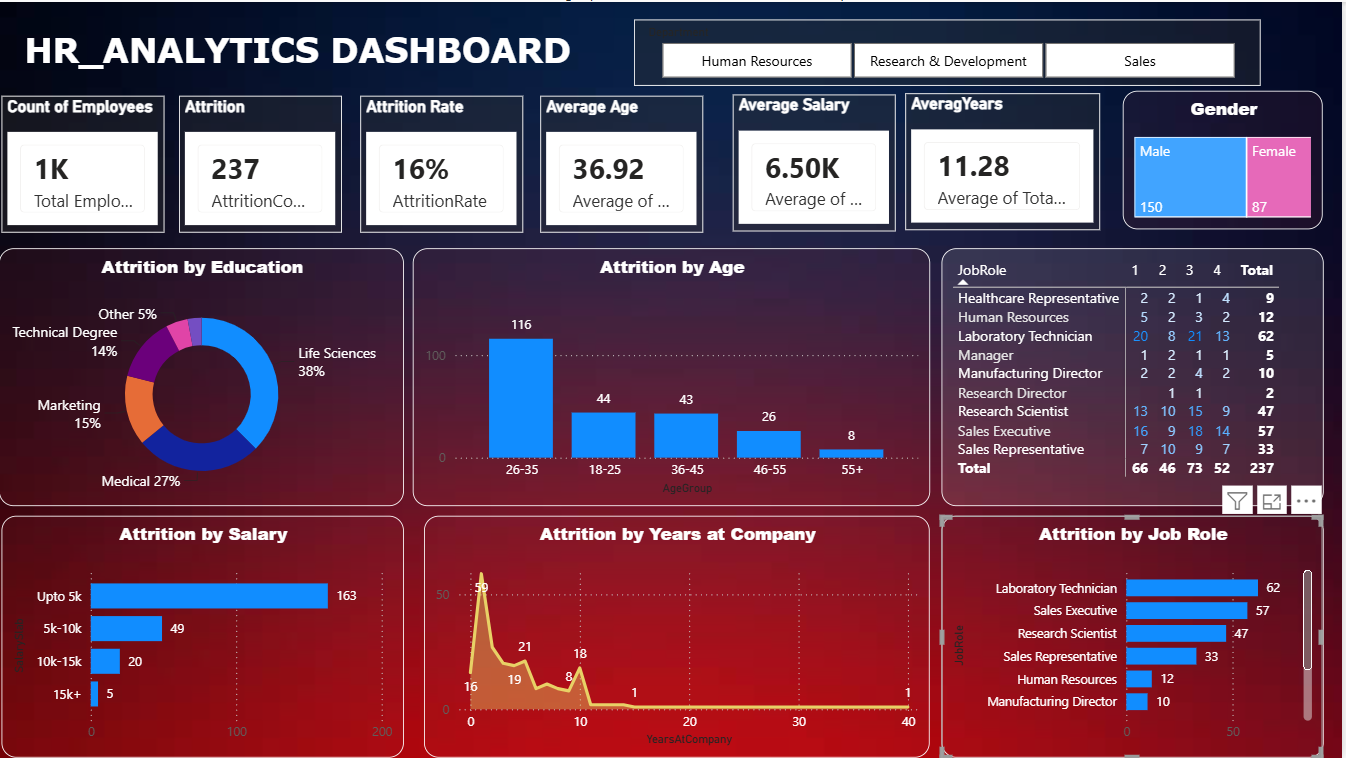

The page's visual inventory and layout, read from the dashboard file:
{"tool":"powerbi","page":{"name":"Page 1","canvas":[1280,720],"ordinal":0},"visuals":[{"type":"cardVisual","title":"Count of Employees","fields":{"Data":["HR_Analytics.Total Employees"]},"box":[2.4,89.3,155.1,130.4],"z":0},{"type":"cardVisual","title":" Attrition","fields":{"Data":["HR_Analytics.Attrition Count"]},"box":[171.5,89.2,155.1,130.4],"z":1000},{"type":"cardVisual","title":"Average Age","fields":{"Data":["Avg(HR_Analytics.Age)"]},"box":[516,89.2,155.1,130.4],"z":2000},{"type":"cardVisual","title":"Attrition Rate","fields":{"Data":["HR_Analytics.AttritionRate"]},"box":[344.4,89.2,155.1,130.4],"z":3000},{"type":"cardVisual","title":"Average Salary","fields":{"Data":["Avg(HR_Analytics.MonthlyIncome)"]},"box":[698.5,87.8,155.1,130.4],"z":4000},{"type":"cardVisual","title":"AveragYears","fields":{"Data":["Avg(HR_Analytics.TotalWorkingYears)"]},"box":[863.1,86.4,185.2,130.4],"z":5000},{"type":"donutChart","title":"Attrition by Education","fields":{"Category":["HR_Analytics.EducationField"],"Y":["HR_Analytics.AttritionCount"]},"box":[0,234.6,385.6,245.6],"z":6000},{"type":"columnChart","title":"Attrition by Age","fields":{"Category":["HR_Analytics.AgeGroup"],"Y":["HR_Analytics.AttritionCount"]},"box":[393.8,234.6,492.6,245.6],"z":7000},{"type":"pivotTable","fields":{"Rows":["HR_Analytics.JobRole"],"Columns":["HR_Analytics.JobSatisfaction"],"Values":["HR_Analytics.AttritionCount"]},"box":[897.4,234.6,363.6,245.6],"z":8000},{"type":"barChart","title":"Attrition by Salary","fields":{"Category":["HR_Analytics.SalarySlab"],"Y":["HR_Analytics.AttritionCount"]},"box":[2.7,489.9,382.8,230.5],"z":9000},{"type":"barChart","title":"Attrition by Job Role","fields":{"Category":["HR_Analytics.JobRole"],"Y":["HR_Analytics.AttritionCount"]},"box":[897.4,489.9,363.6,230.5],"z":10000},{"type":"areaChart","title":"Attrition by Years at Company","fields":{"Category":["HR_Analytics.YearsAtCompany"],"Y":["HR_Analytics.AttritionCount"]},"box":[404.8,489.9,481.6,230.5],"z":11000},{"type":"treemap","title":"Gender","fields":{"Group":["HR_Analytics.Gender"],"Values":["HR_Analytics.AttritionCount"]},"box":[1070.3,85.1,190.7,131.7],"z":12000},{"type":"slicer","fields":{"Values":["HR_Analytics.Department"]},"box":[605.1,16.5,596.9,63.1],"z":13000},{"type":"textbox","box":[19.2,22,679.2,52.1],"z":14000}]}

Visuals, with their boxes in screenshot pixels (x1, y1, x2, y2), scaled from the page's 1280x720 canvas onto the 1346x758 screenshot:
"Count of Employees" cardVisual: <box>3,94,166,231</box>
" Attrition" cardVisual: <box>180,94,343,231</box>
"Average Age" cardVisual: <box>543,94,706,231</box>
"Attrition Rate" cardVisual: <box>362,94,525,231</box>
"Average Salary" cardVisual: <box>735,92,898,230</box>
"AveragYears" cardVisual: <box>908,91,1102,228</box>
"Attrition by Education" donutChart: <box>0,247,405,506</box>
"Attrition by Age" columnChart: <box>414,247,932,506</box>
pivotTable - HR_Analytics.JobRole x HR_Analytics.JobSatisfaction: <box>944,247,1326,506</box>
"Attrition by Salary" barChart: <box>3,516,405,757</box>
"Attrition by Job Role" barChart: <box>944,516,1326,757</box>
"Attrition by Years at Company" areaChart: <box>426,516,932,757</box>
"Gender" treemap: <box>1125,90,1326,228</box>
slicer - HR_Analytics.Department: <box>636,17,1264,84</box>
textbox: <box>20,23,734,78</box>
